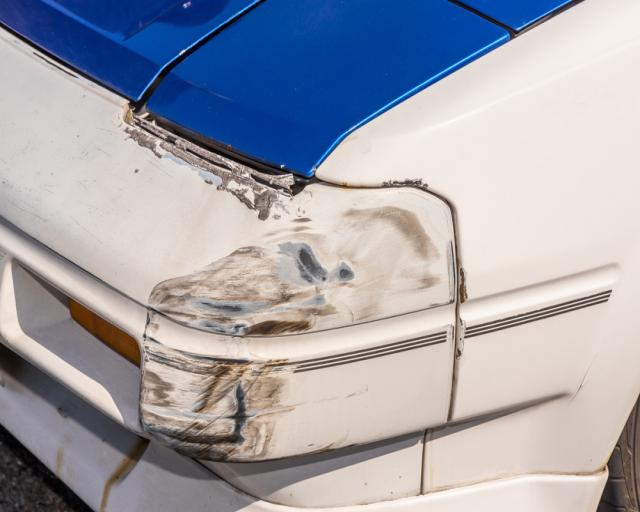scratch: (117, 115, 447, 465)
